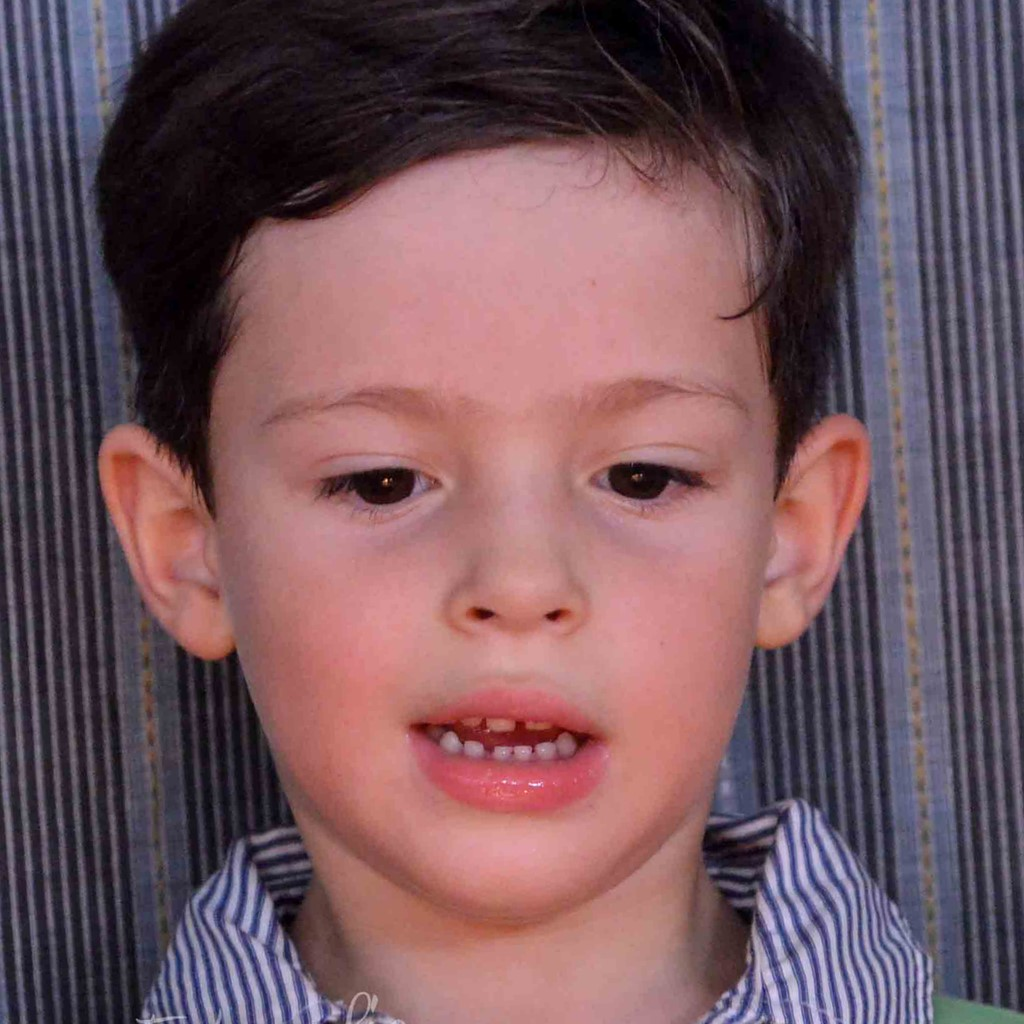sin_mascara: (176, 100, 789, 908)
